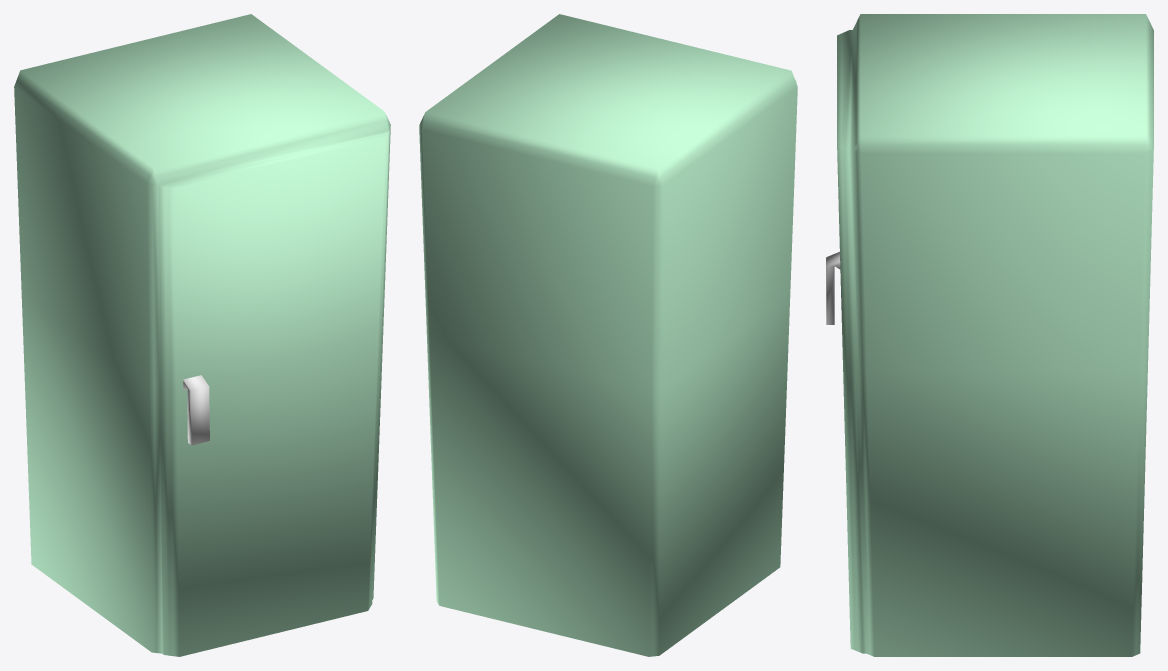
The model's file is Fridge.glb.
3 views of the same model, side by side, from view 1: azimuth 30°, elevation 25°; view 2: azimuth 150°, elevation 25°; view 3: azimuth 270°, elevation 25° (orthographic). The views are drawn at different scales.
Visible parts, largest first — view 1: Cube.009; view 2: Cube.009; view 3: Cube.009.
Part boxes in pixels (x1,y1,x2,y2): Cube.009: [14, 14, 390, 656]; Cube.009: [419, 14, 797, 656]; Cube.009: [826, 14, 1153, 656].
Size of the model in its own units: 1.22 by 2.35 by 1.33.
